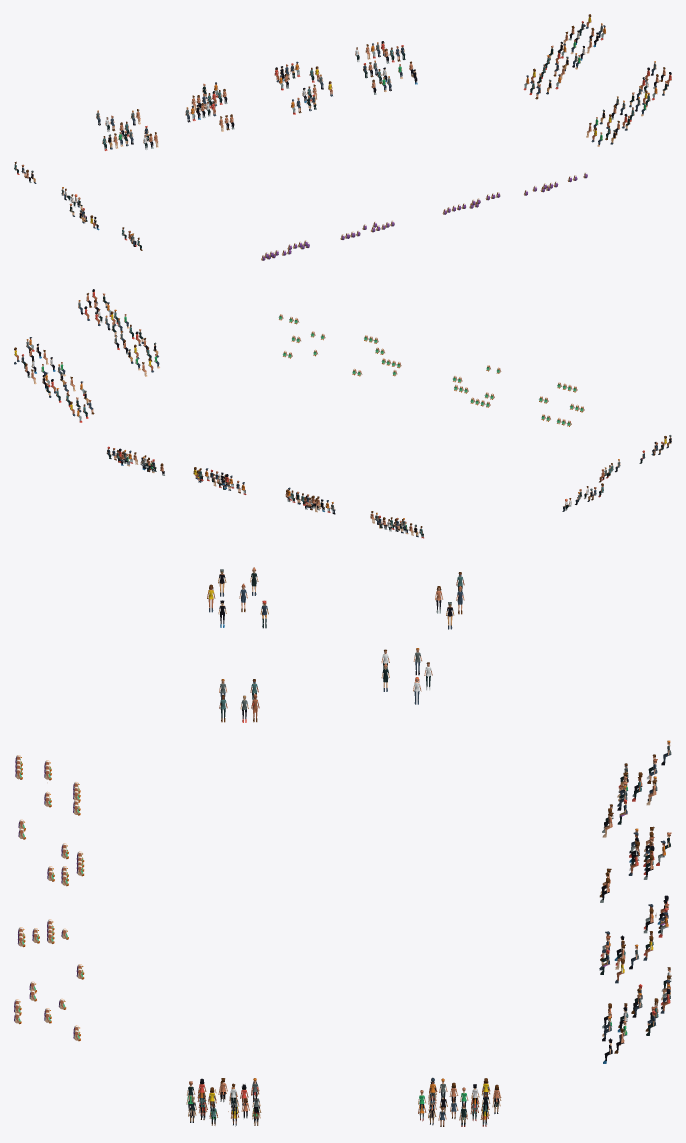
The model's file is AudienceBlock3.gltf.
3 views of the same model, one above another, from view 1: azimuth 30°, elevation 25°; view 2: azimuth 150°, elevation 25°; view 3: azimuth 270°, elevation 25° (orthographic). The views are drawn at different scales.
Parts seen in each view (by area): view 1: Block3; view 2: Block3; view 3: Block3.
Boxes of the visible parts, x1,y1,x2,y2 form: Block3: [14, 14, 671, 260]; Block3: [14, 289, 671, 538]; Block3: [14, 567, 671, 1126].
Bounding box in the file's own units: 68.06 × 6.72 × 36.94.
1 material, 1 textured.
